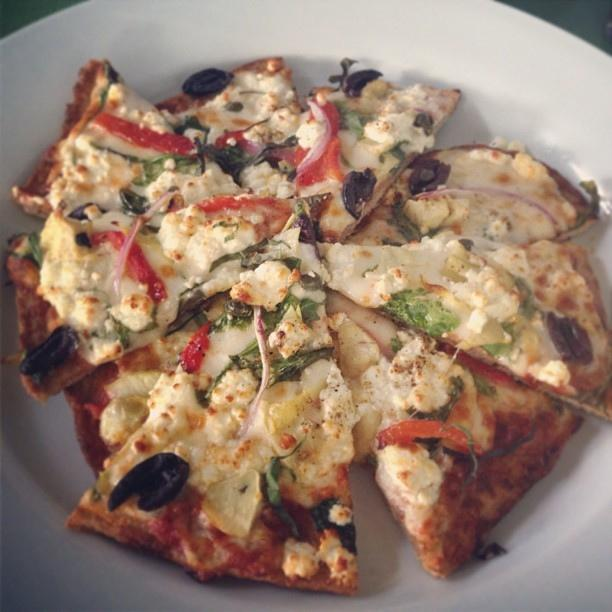onion: (114, 192, 174, 300), (413, 187, 558, 226), (235, 305, 270, 439), (296, 95, 332, 174), (396, 101, 439, 117), (247, 142, 259, 152)
